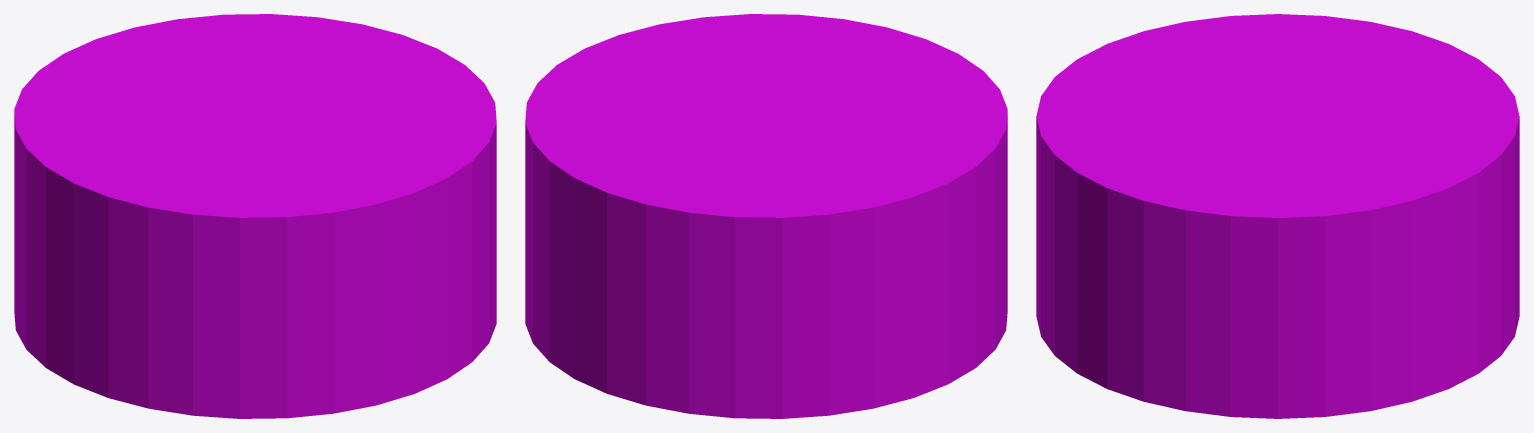
The model's file is scara-link-4.dae.
The picture shows the model from 3 angles, left to right: view 1: azimuth 30°, elevation 25°; view 2: azimuth 150°, elevation 25°; view 3: azimuth 270°, elevation 25°; orthographic projection.
Parts seen in each view (by area): view 1: Link4; view 2: Link4; view 3: Link4.
Boxes of the visible parts, bbox=[...] form: Link4: bbox=[14, 14, 496, 418]; Link4: bbox=[525, 14, 1007, 418]; Link4: bbox=[1036, 14, 1519, 418].
Bounding box in the file's own units: 0.218 × 0.218 × 0.1.
